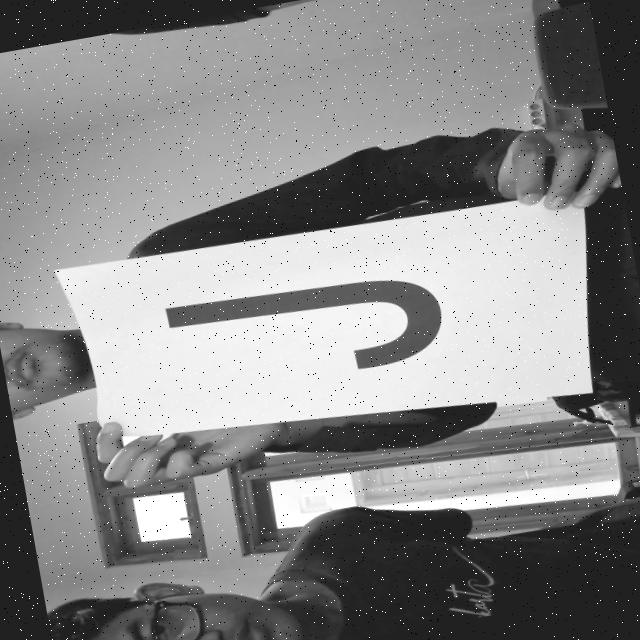j: (154, 250, 459, 410)
